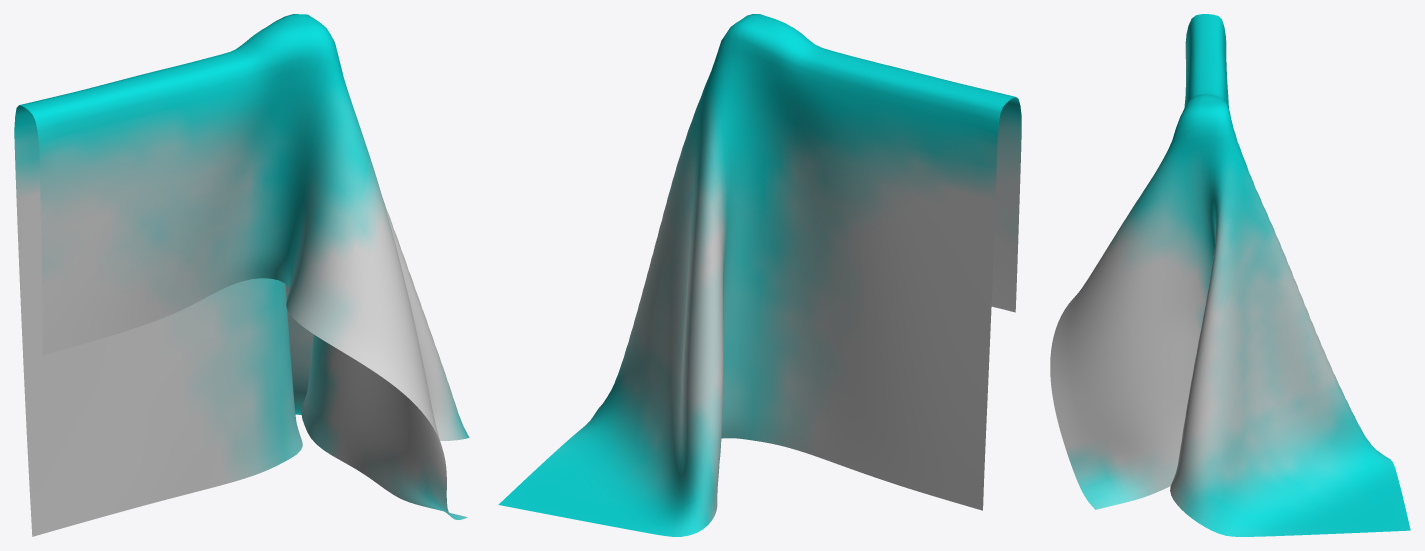
Rendered from Cloth Vertex Alpha Mask.FBX.
The picture shows the model from 3 angles, left to right: view 1: azimuth 30°, elevation 25°; view 2: azimuth 150°, elevation 25°; view 3: azimuth 270°, elevation 25°; orthographic projection. The views are drawn at different scales.
Parts seen in each view (by area): view 1: Cloth Vertex Alpha Mask; view 2: Cloth Vertex Alpha Mask; view 3: Cloth Vertex Alpha Mask.
Part boxes in pixels (<box>): Cloth Vertex Alpha Mask: <box>14,14,469,536</box>; Cloth Vertex Alpha Mask: <box>498,14,1021,536</box>; Cloth Vertex Alpha Mask: <box>1050,14,1410,536</box>.
Bounding box in the file's own units: 51.69 × 52.19 × 46.26.
